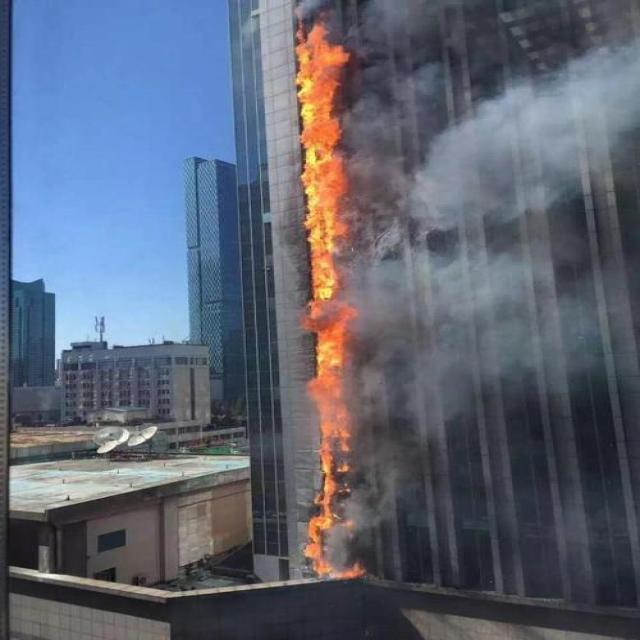Fire: (296, 26, 369, 578)
Smoke: (361, 38, 640, 394)
